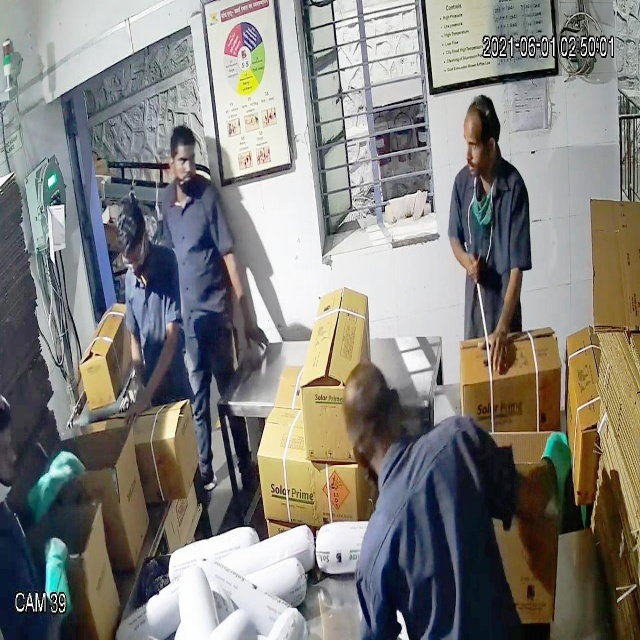Sin_gafas: (462, 127, 498, 168)
